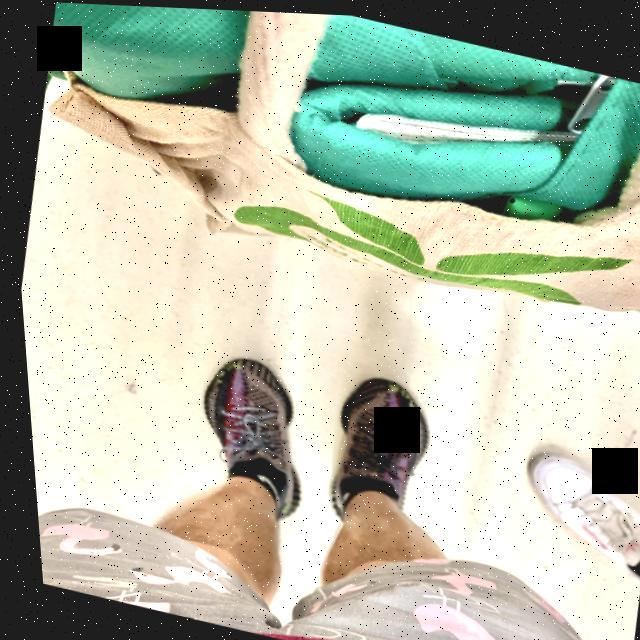shoes: (153, 330, 333, 526), (286, 351, 461, 541), (492, 429, 640, 595)
